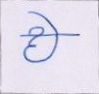e_matra: (29, 11, 62, 33)
